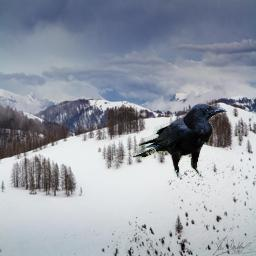Crow: (132, 103, 228, 178)
